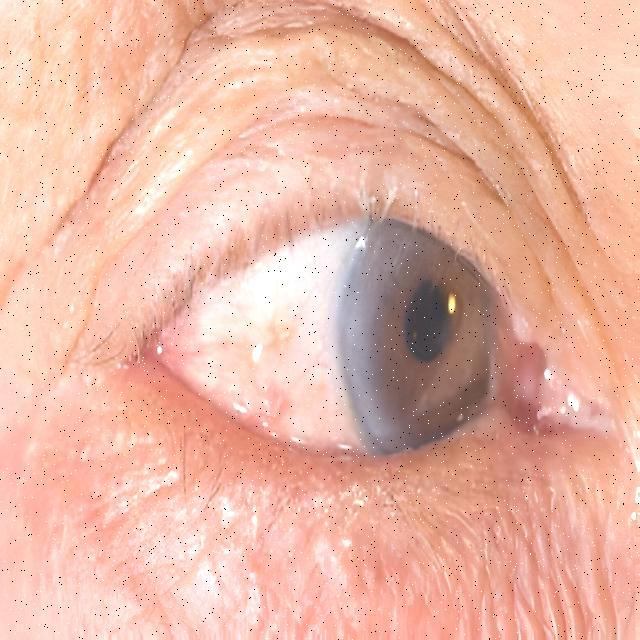Pterygium: (135, 272, 354, 453)
